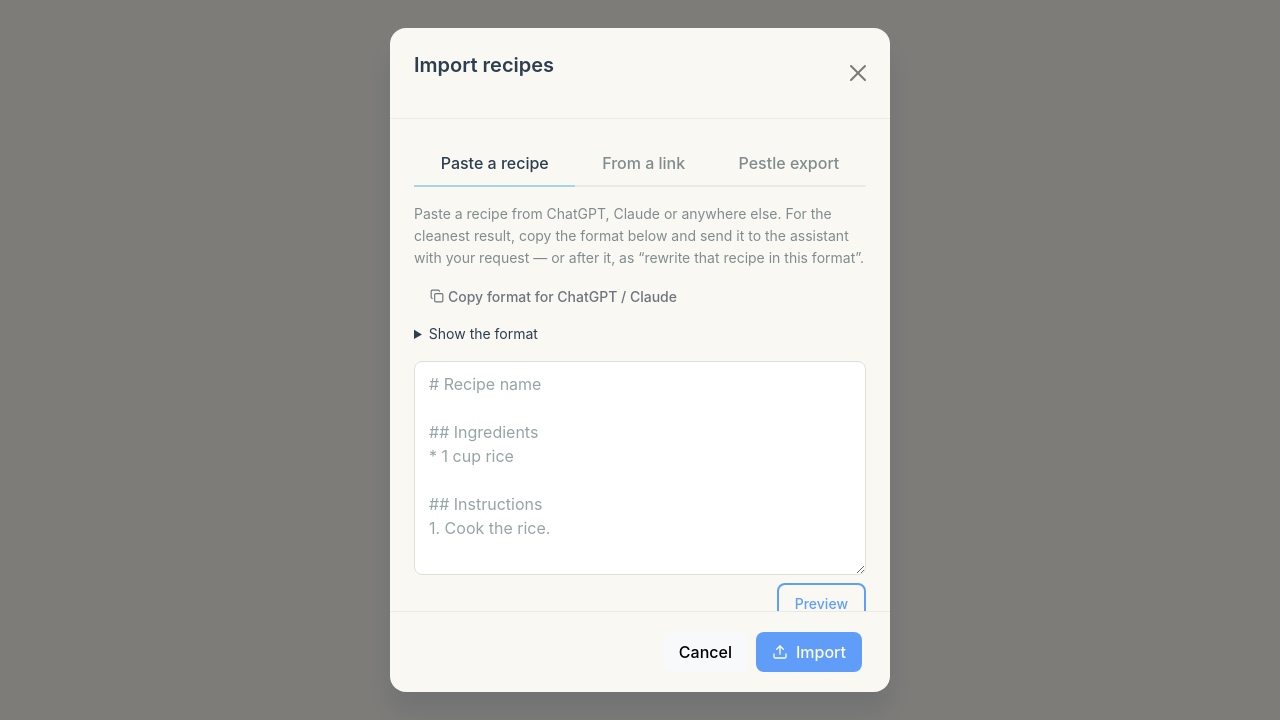
Scenario: pasting a recipe › copies the format for the assistant
Click the button "Copy format for ChatGPT / Claude". click: (554, 296)
box: [414,278,693,315]
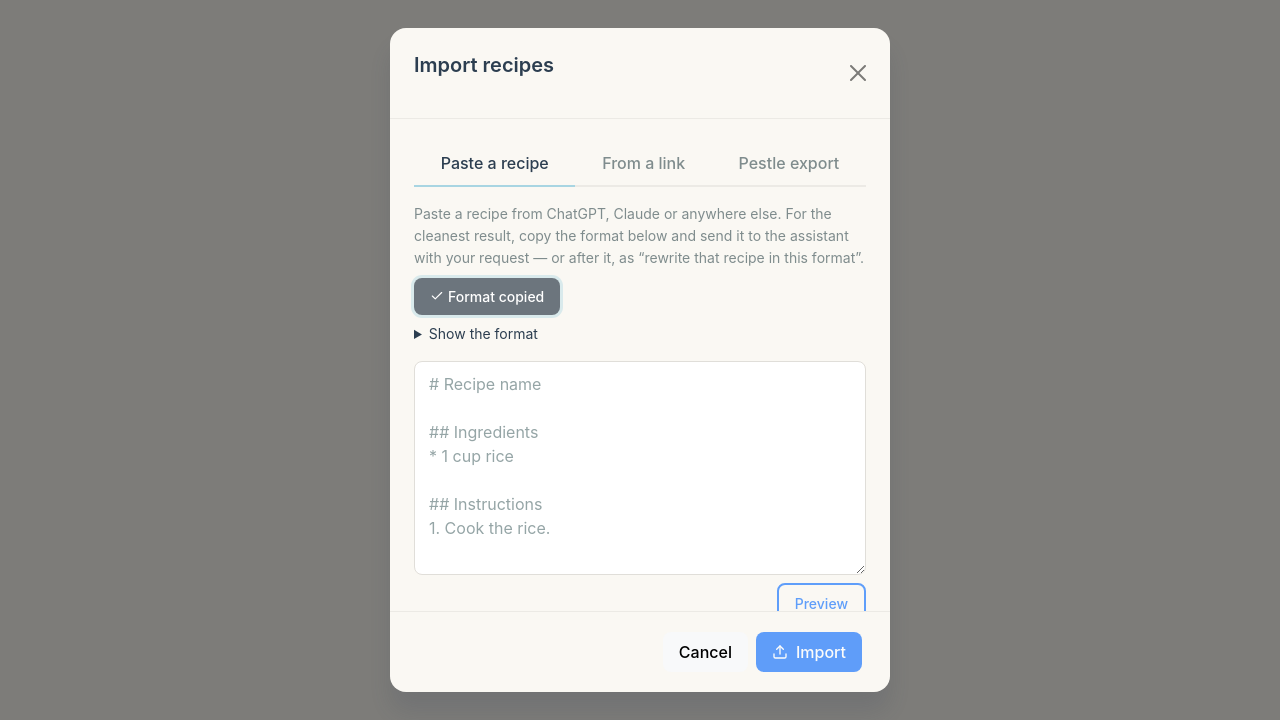
Now the button "Format copied" is shown, box [414,278,560,315]
